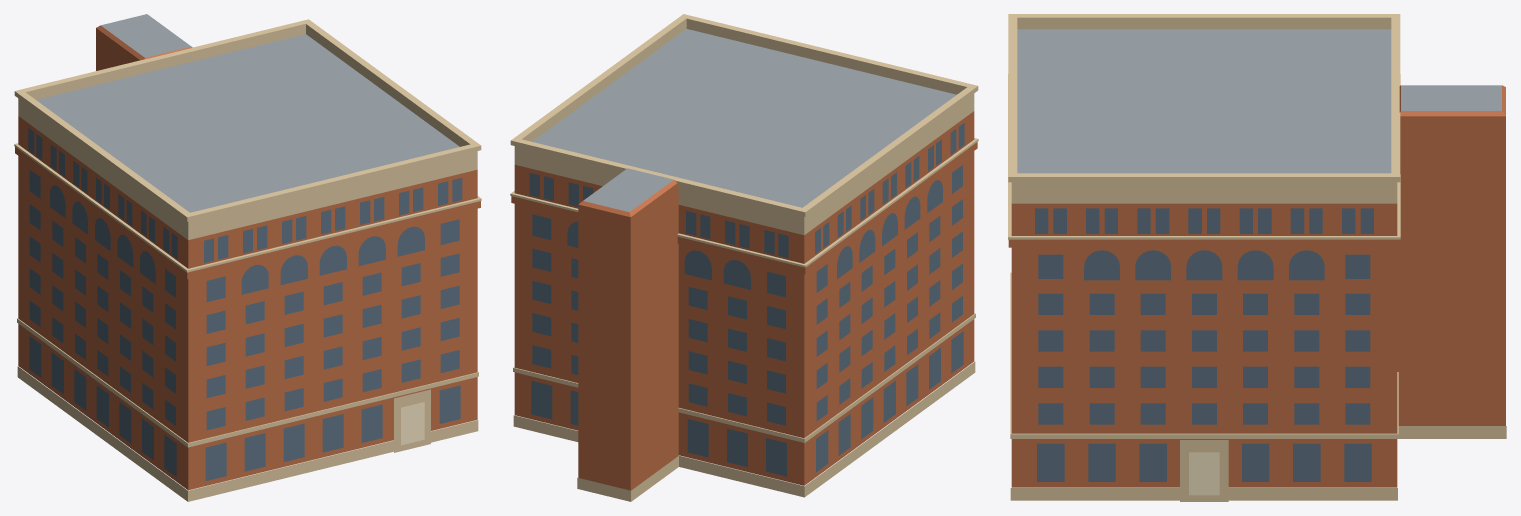
The model's file is dal-texas-school-book-depository.glb.
3 renders of one model, left to right at view 1: azimuth 30°, elevation 25°; view 2: azimuth 150°, elevation 25°; view 3: azimuth 270°, elevation 25°, orthographic. The views are drawn at different scales.
Visible parts, largest first — view 1: Texas School Book Depository; view 2: Texas School Book Depository; view 3: Texas School Book Depository.
Part boxes in pixels (bbox=[...]): Texas School Book Depository: bbox=[14, 14, 481, 501]; Texas School Book Depository: bbox=[510, 14, 978, 501]; Texas School Book Depository: bbox=[1008, 14, 1506, 501].
Bounding box in the file's own units: 30.27 × 28.1 × 39.04.
